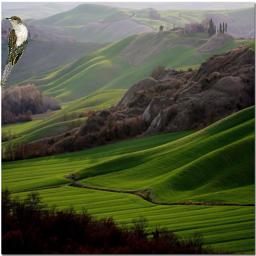Cuckoo: (0, 16, 28, 87)
